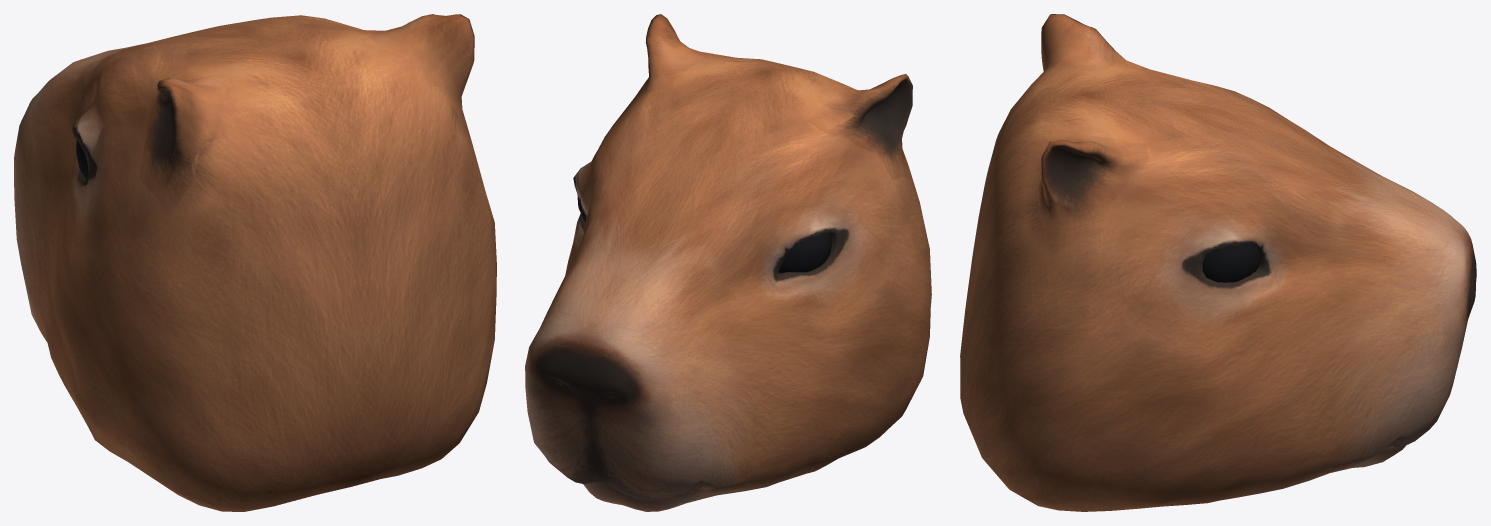
The model's file is CapibaraHead.fbx.
3 renders of one model, left to right at view 1: azimuth 30°, elevation 25°; view 2: azimuth 150°, elevation 25°; view 3: azimuth 270°, elevation 25°, orthographic. The views are drawn at different scales.
Visible parts, largest first — view 1: CapibaraHead; view 2: CapibaraHead; view 3: CapibaraHead.
Boxes of the visible parts, x1,y1,x2,y2 form: CapibaraHead: (14, 14, 496, 511); CapibaraHead: (525, 14, 931, 511); CapibaraHead: (960, 14, 1476, 511).
Size of the model in its own units: 3.46 by 4.07 by 4.73.
1 material, 1 textured.
